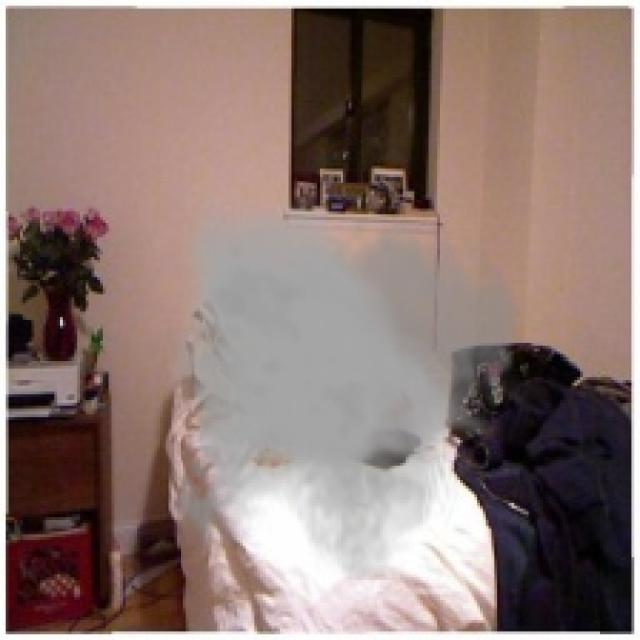Smoke: (166, 188, 523, 580)
